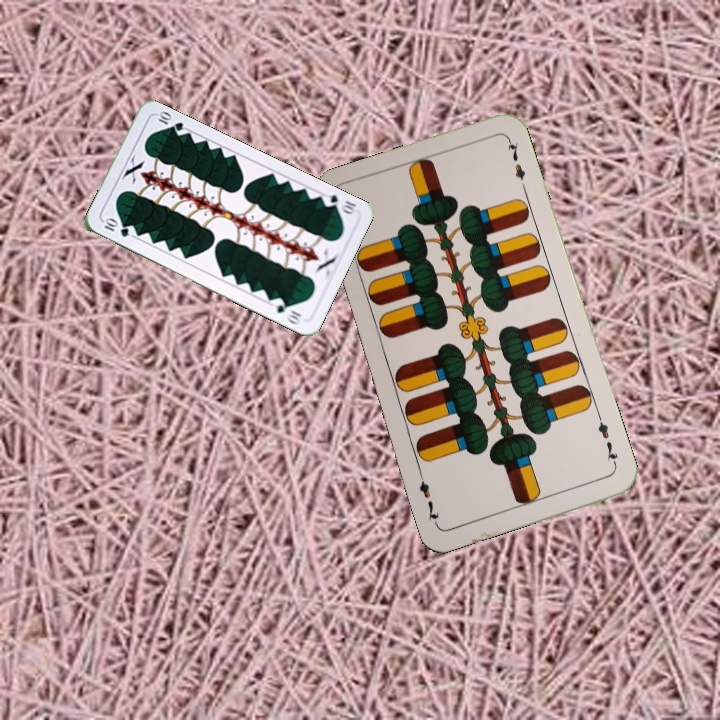E7: (594, 412, 621, 470)
G10: (318, 190, 359, 217), (99, 215, 132, 240)
